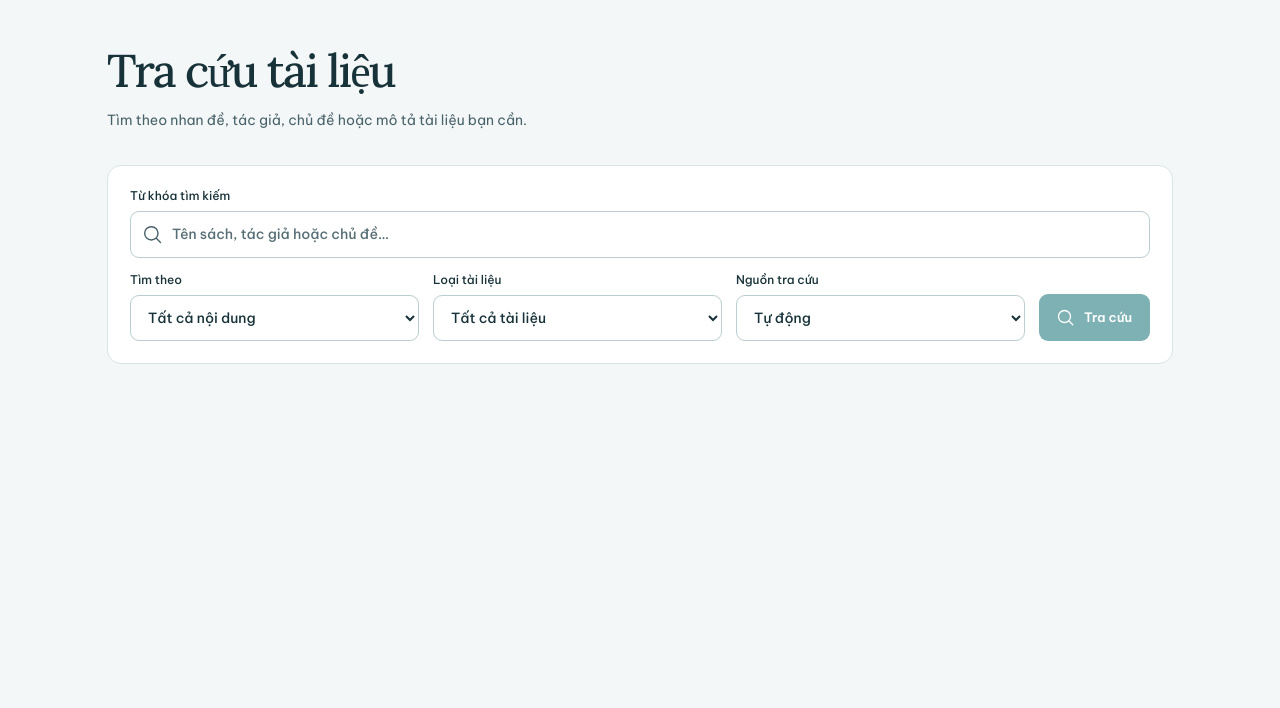
presents saved search results and book details in reader language without losing freshness limits
Type "Python" into the field labelled "Từ khóa tìm kiếm" at coordinates (640, 235), box x1=130 y1=211 x2=1150 y2=258
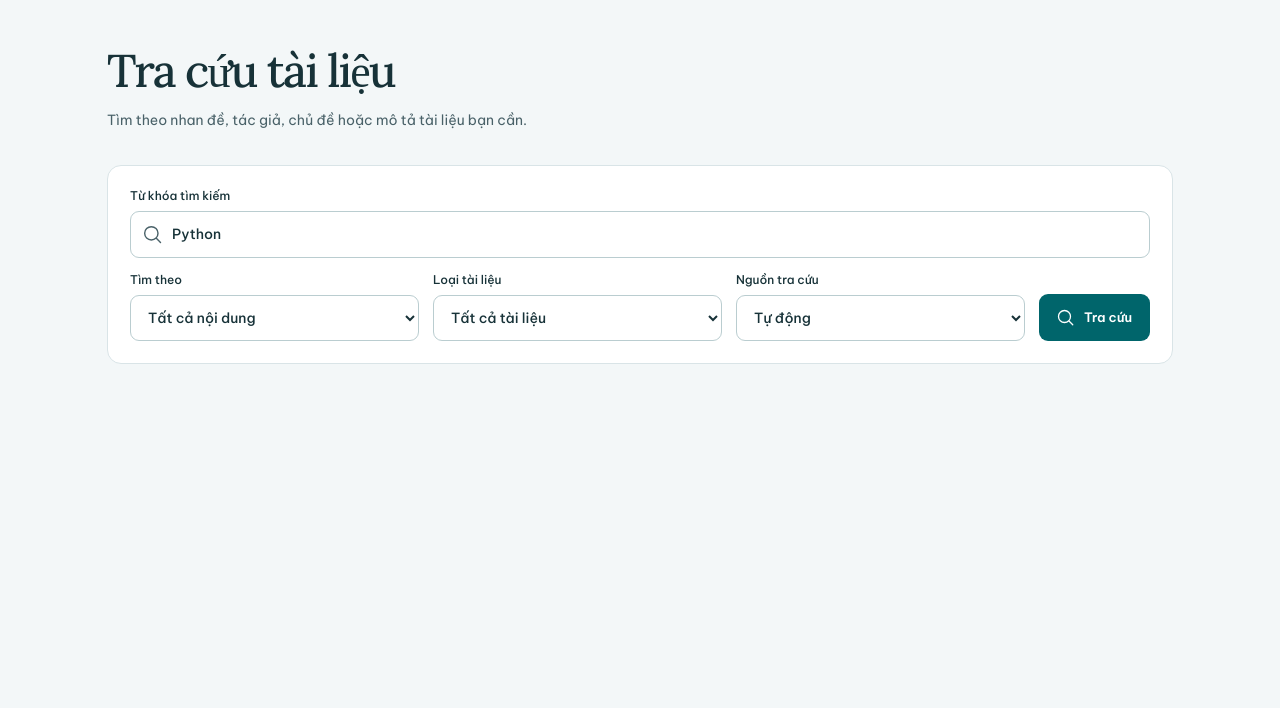
Click the button "Tra cứu" at coordinates (1094, 318), box x1=1039 y1=294 x2=1150 y2=341
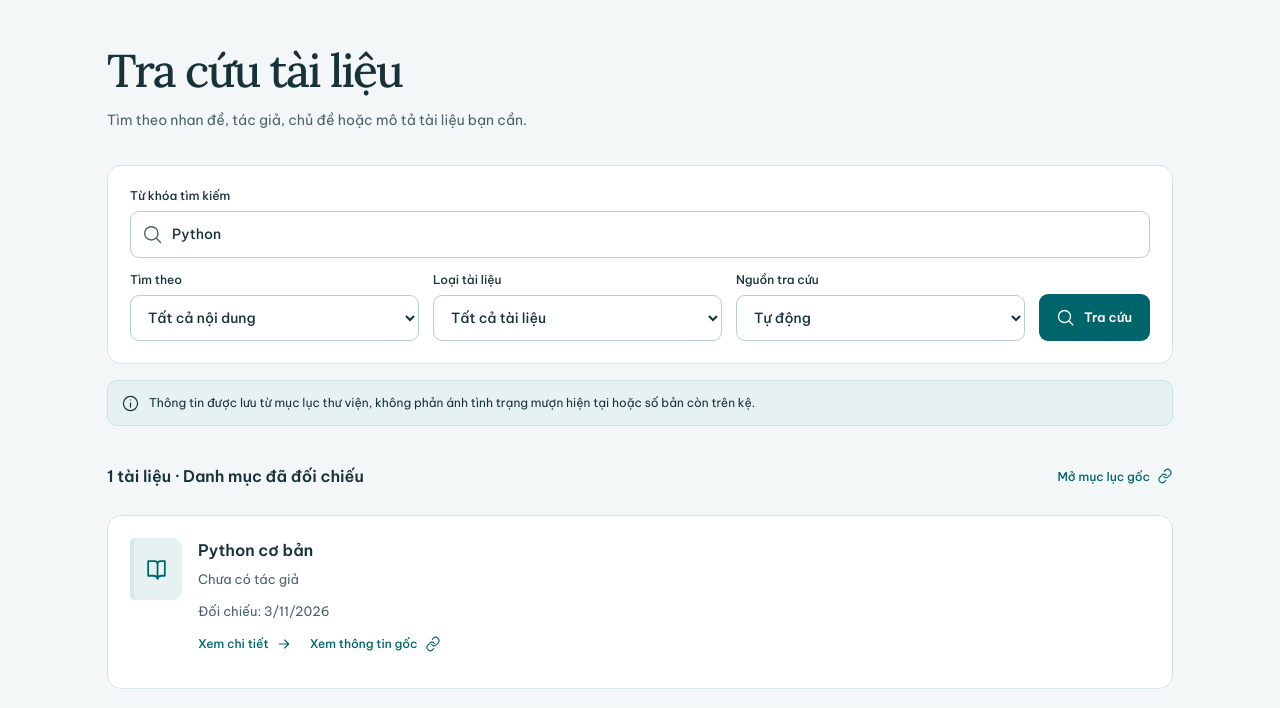
Expected: the link "Python cơ bản" is shown, x1=198 y1=540 x2=313 y2=560
Expected: the text "không phản ánh tình trạng mượn hiện tại" is shown, x1=149 y1=395 x2=755 y2=410
Click the button "Xem chi tiết" at coordinates (245, 644), box x1=198 y1=622 x2=292 y2=666
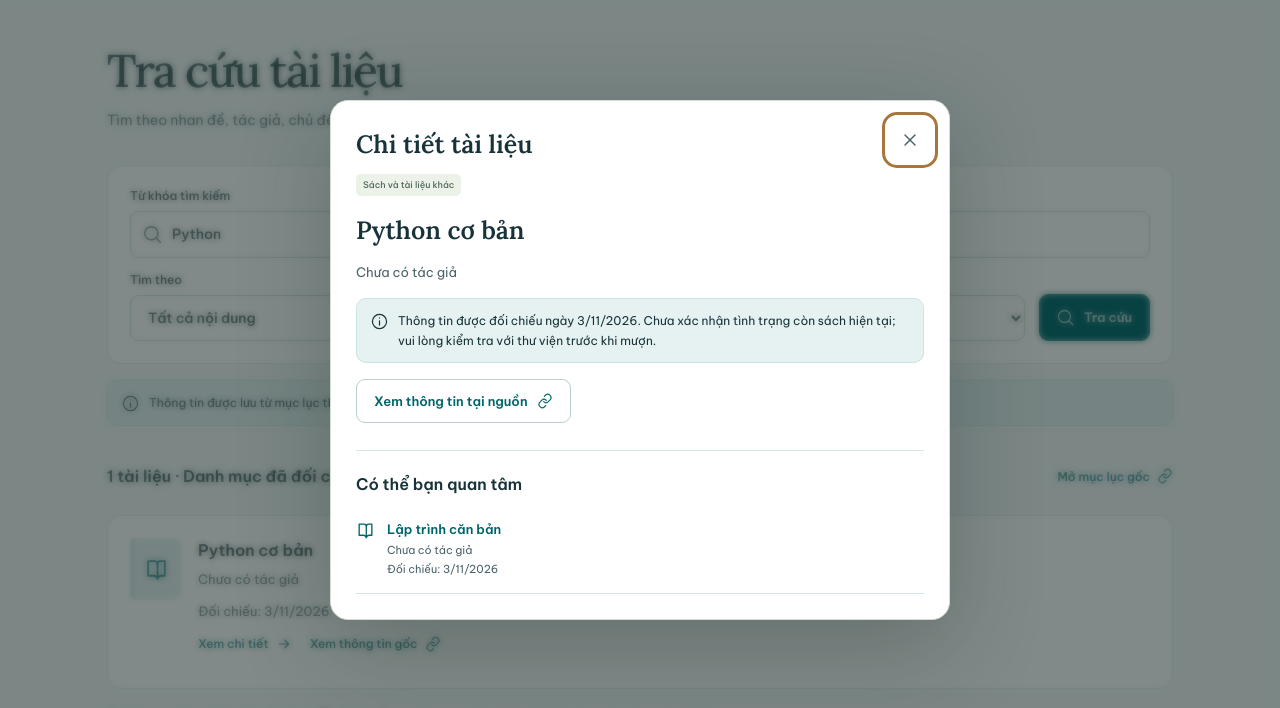
Expected: the text "Lập trình căn bản" is shown, x1=387 y1=521 x2=501 y2=537
Expected: the text "Chưa xác nhận tình trạng còn sách hiện tại" is shown, x1=398 y1=313 x2=896 y2=348
